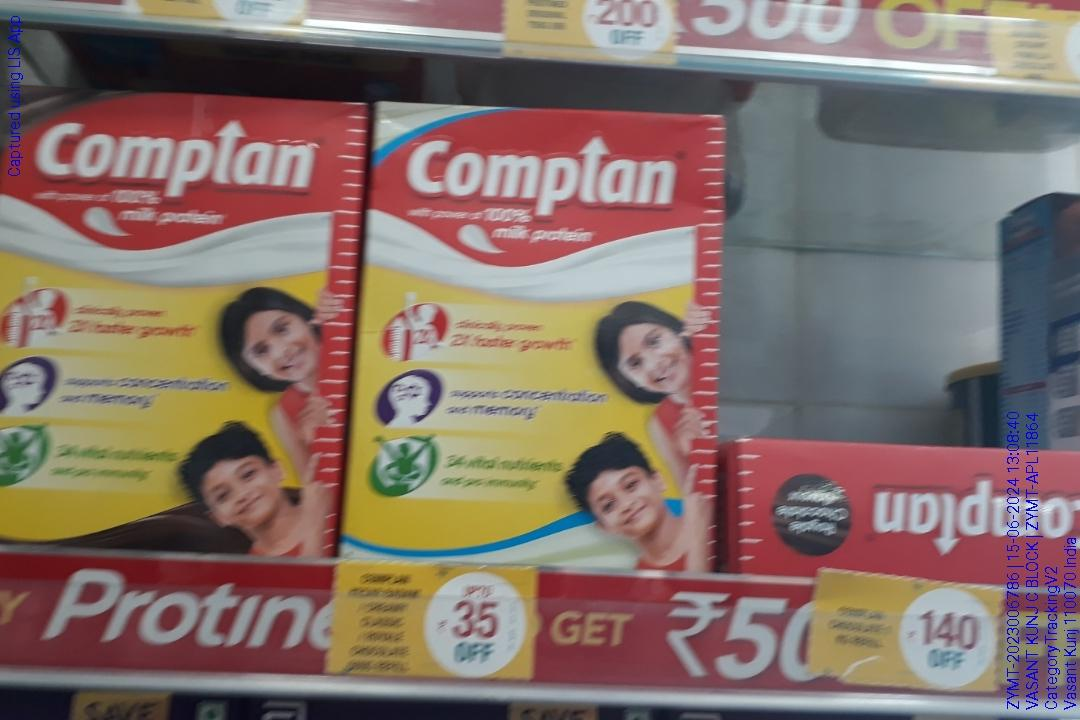COMPLAN_CHOCOLATE_500_GMS_PACK: (0, 89, 344, 556)
COMPLAN_CREAMY_CLASSIC_500_G_PACK: (359, 108, 719, 562)
